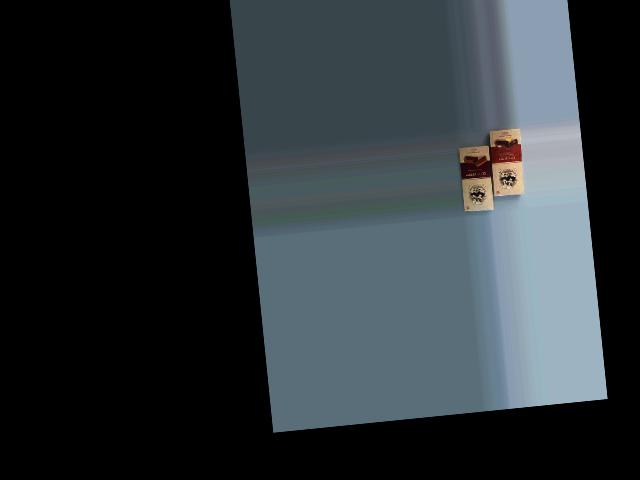chocolate: (481, 126, 527, 200)
